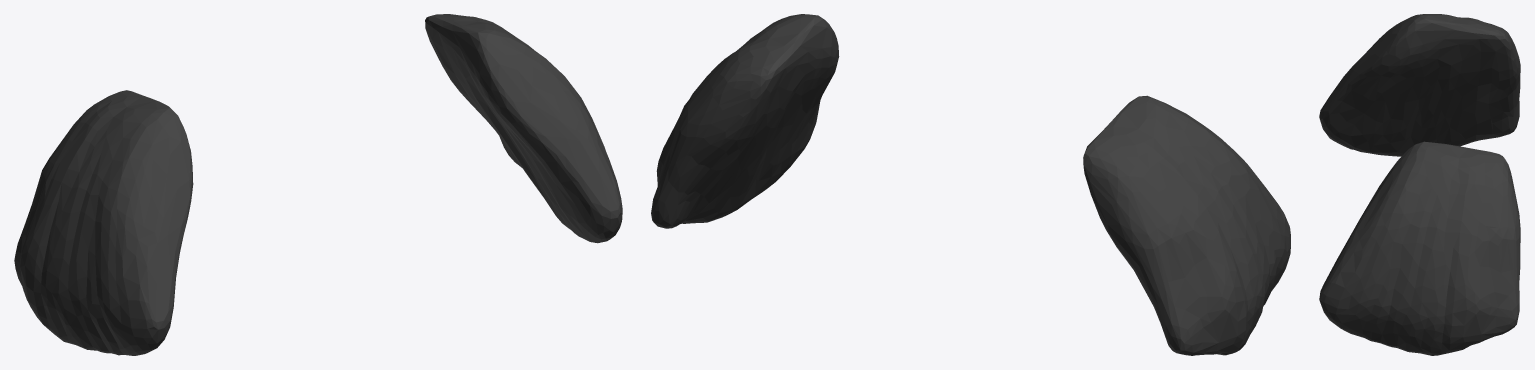
File: m_masseter_medius.glb
The picture shows the model from 3 angles, left to right: view 1: azimuth 30°, elevation 25°; view 2: azimuth 150°, elevation 25°; view 3: azimuth 270°, elevation 25°; orthographic projection. The views are drawn at different scales.
Visible parts, largest first — view 1: m_masseter_medius; view 2: m_masseter_medius; view 3: m_masseter_medius.
Boxes of the visible parts, x1,y1,x2,y2 form: m_masseter_medius: [14, 14, 622, 355]; m_masseter_medius: [651, 14, 1290, 355]; m_masseter_medius: [1319, 14, 1520, 355].
Bounding box in the file's own units: 0.00279 × 0.00104 × 0.00109.
Materials: 1 (1 with a texture image).
